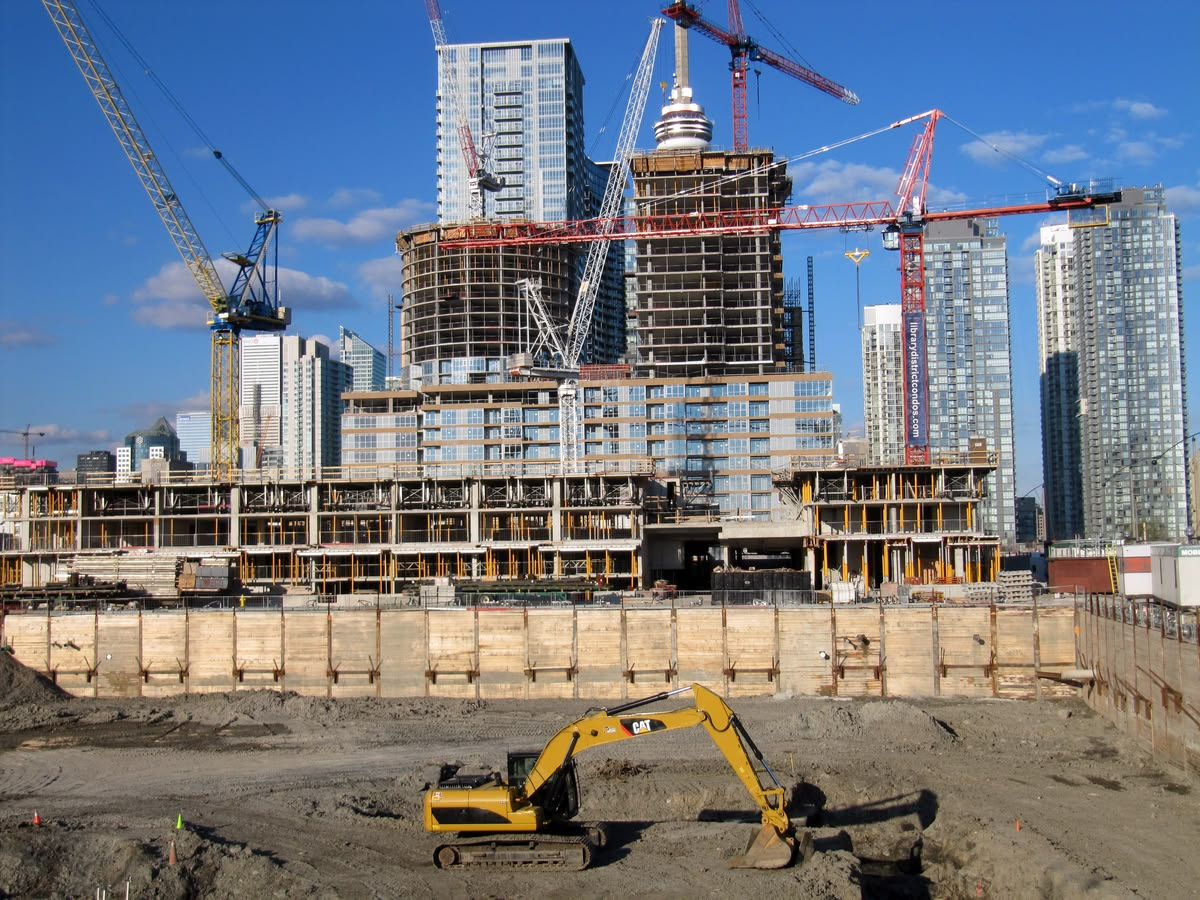crane: (463, 126, 1093, 517), (61, 17, 307, 528), (641, 2, 846, 247)
excavator: (422, 666, 811, 877)
